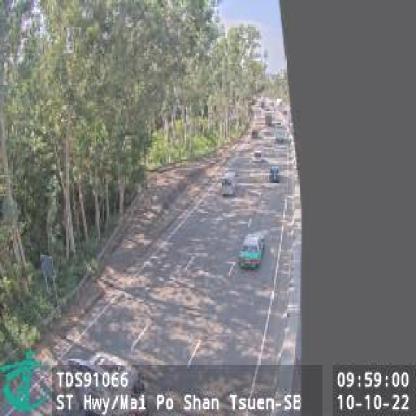Car: (238, 230, 266, 268), (271, 165, 281, 179)
Truck: (222, 172, 237, 198)
